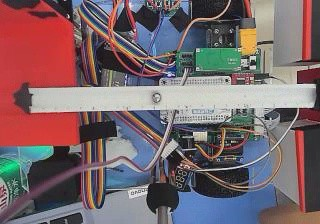ironball: (151, 93, 161, 102)
